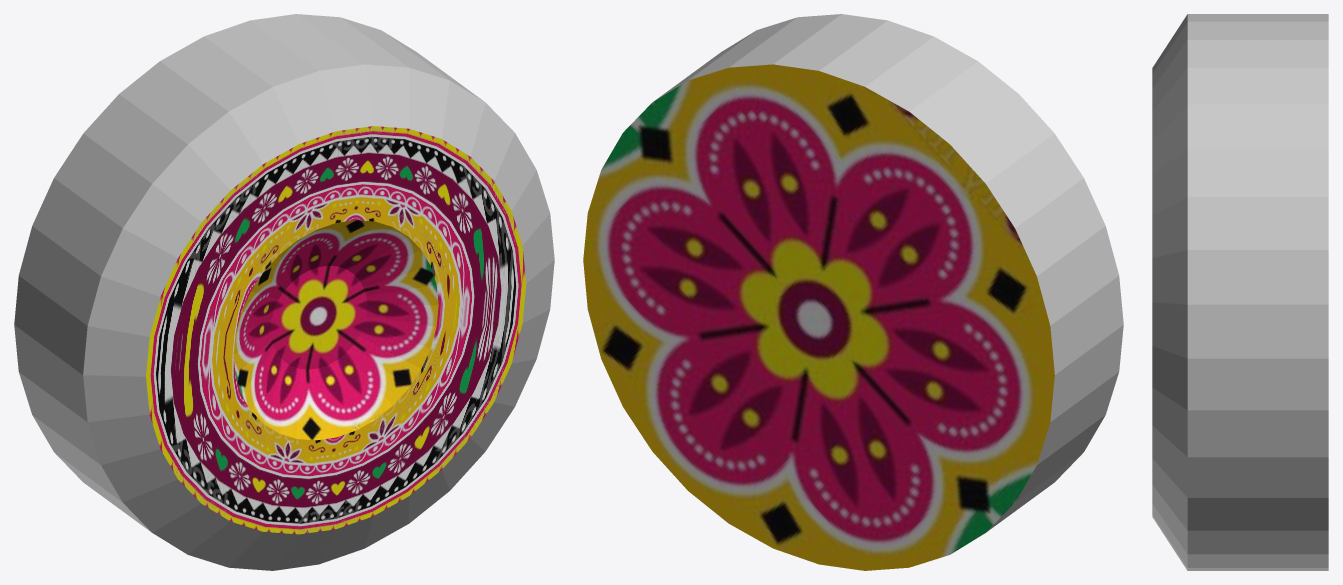
The model's file is Tyre.fbx.
3 views of the same model, side by side, from view 1: azimuth 30°, elevation 25°; view 2: azimuth 150°, elevation 25°; view 3: azimuth 270°, elevation 25° (orthographic). The views are drawn at different scales.
Parts seen in each view (by area): view 1: Tyre; view 2: Tyre; view 3: Tyre.
Part boxes in pixels (x1,y1,x2,y2): Tyre: [14, 14, 554, 570]; Tyre: [583, 14, 1123, 570]; Tyre: [1152, 14, 1328, 570].
Size of the model in its own units: 1.13 by 1.13 by 0.3558.
